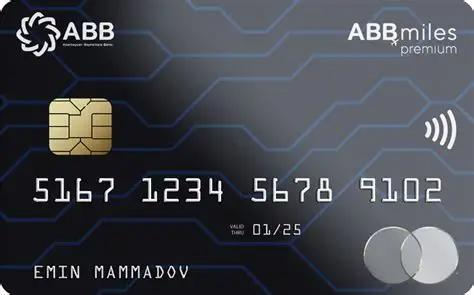ABB: (13, 9, 63, 57)
